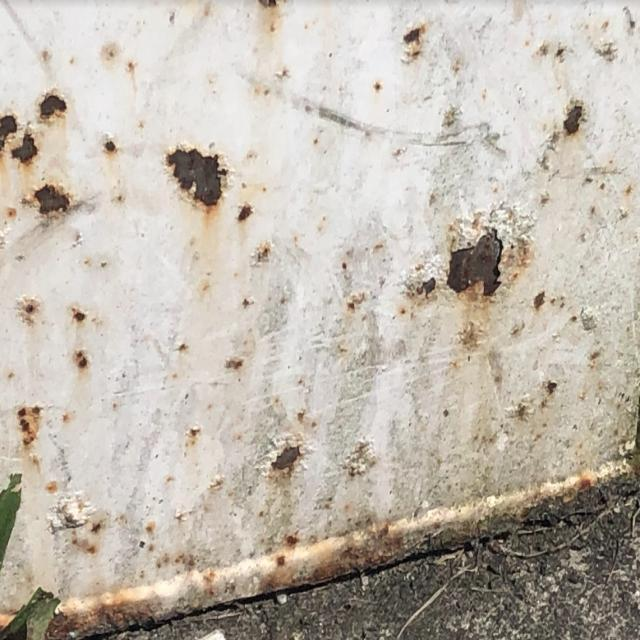Corrosion: (47, 453, 640, 640), (402, 201, 534, 306), (161, 141, 226, 212), (49, 493, 104, 558), (259, 433, 313, 486), (23, 182, 86, 226), (0, 113, 38, 166), (344, 440, 376, 480), (36, 89, 68, 125), (152, 547, 198, 572), (19, 402, 42, 448), (249, 234, 274, 272), (459, 319, 486, 354), (562, 99, 586, 136), (404, 21, 425, 62), (596, 39, 621, 64), (513, 392, 532, 420), (18, 299, 39, 323), (583, 304, 600, 332), (347, 291, 366, 315), (544, 377, 562, 402), (73, 348, 90, 374), (71, 303, 86, 328), (236, 199, 252, 222), (530, 290, 548, 310), (223, 356, 244, 372), (551, 44, 569, 62), (187, 423, 200, 446), (588, 345, 601, 366), (106, 43, 118, 65), (105, 138, 118, 154), (175, 340, 192, 352), (258, 0, 281, 8), (126, 61, 136, 75), (375, 82, 384, 95), (8, 206, 14, 220)
